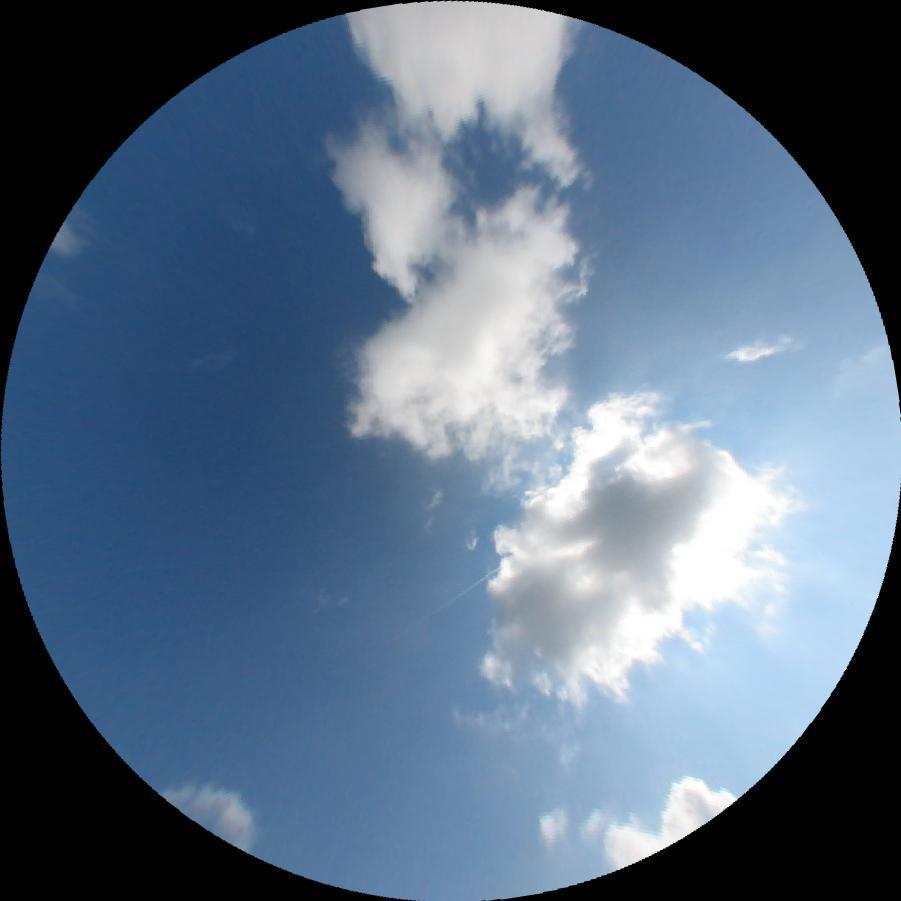contrail young: (398, 566, 498, 635)
